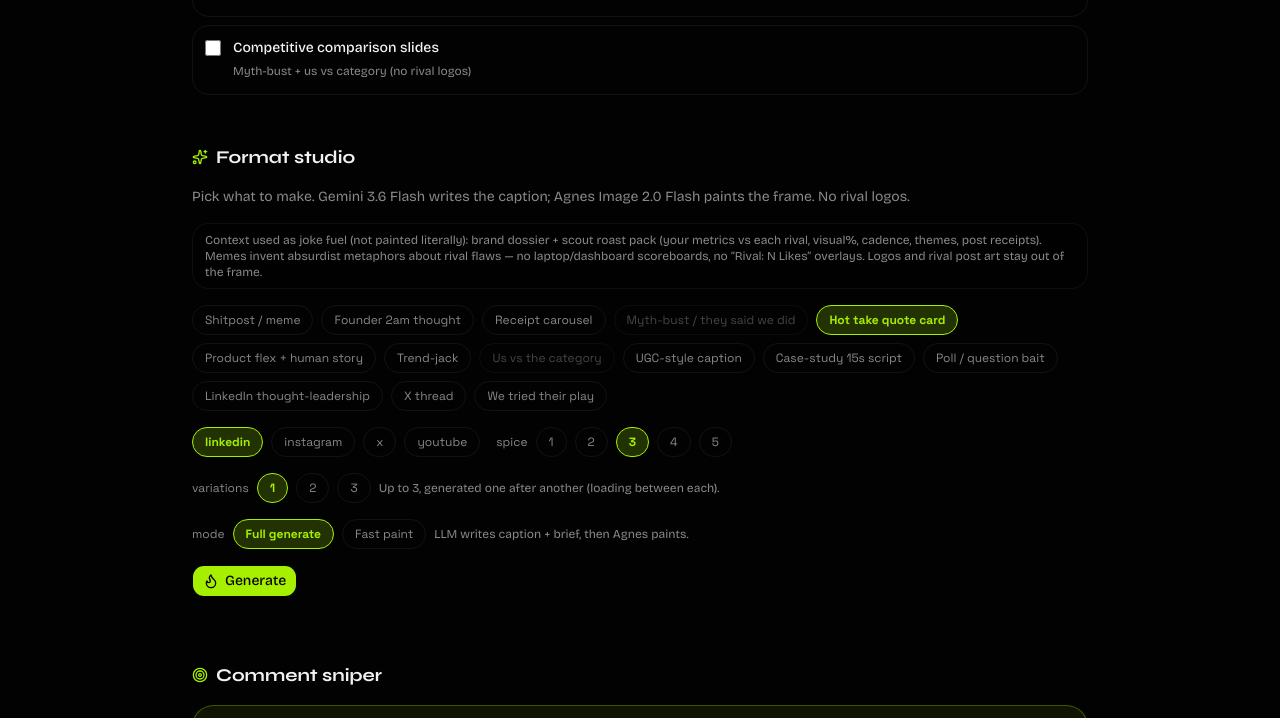
Test: DiscoveryReport war room › shows the selected format name in the studio cooking loader
The width and height of the screenshot is (1280, 718).
(page scrolled)
Step 1. Click the button "Product flex + human story" → (284, 358), box left=192, top=343, right=376, bottom=373
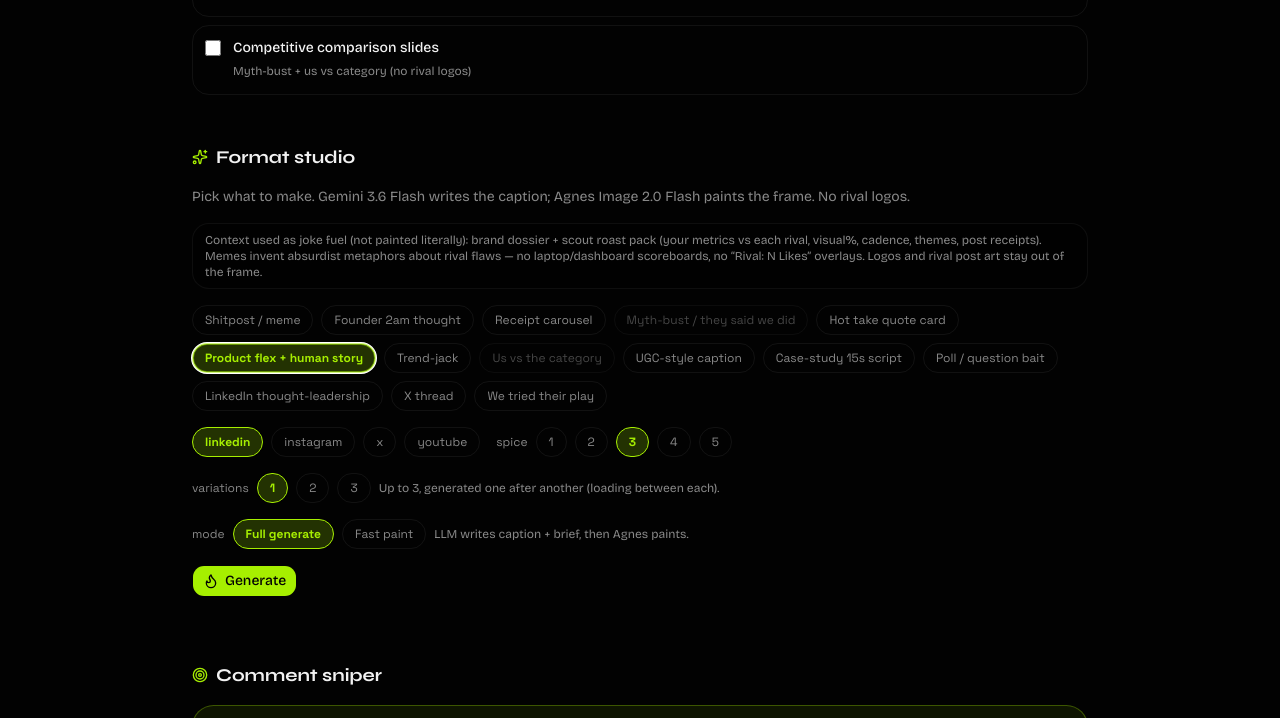
Step 2. Click the button "Generate" → (245, 581), box left=192, top=565, right=297, bottom=597
(page scrolled)
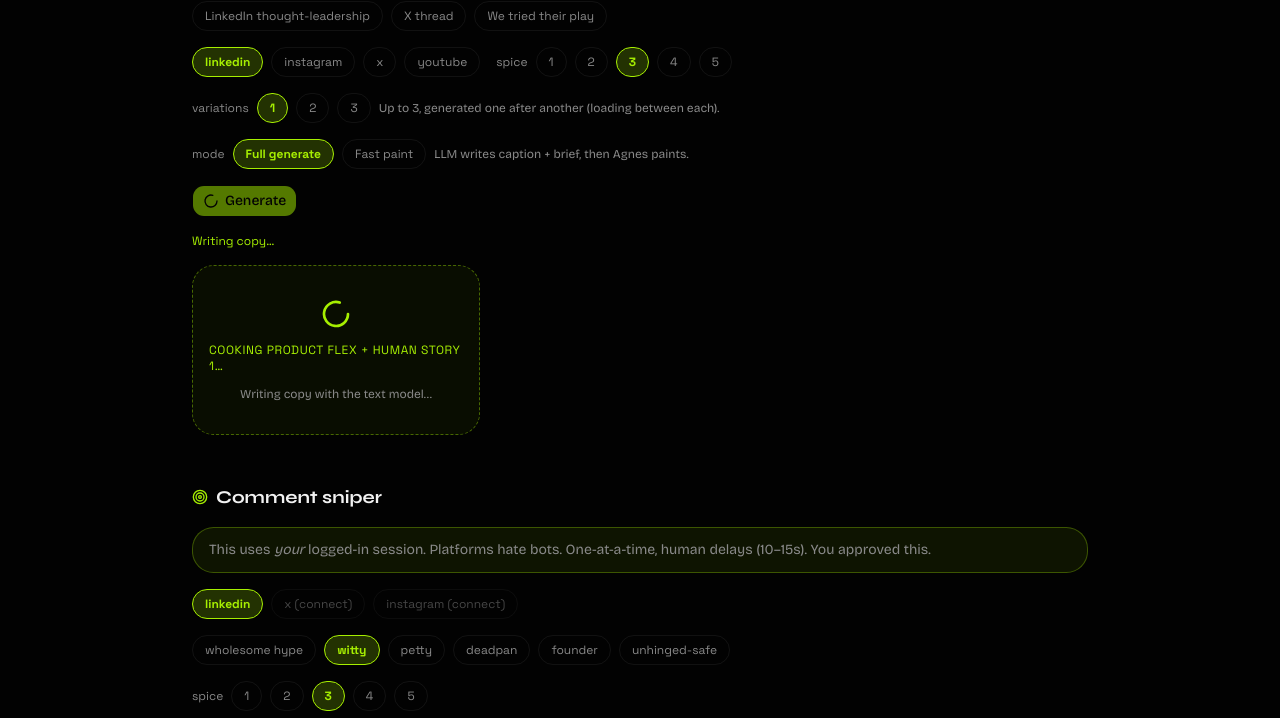
expect the text "Cooking Product flex + human story 1…" is shown: met, box left=209, top=342, right=463, bottom=374
